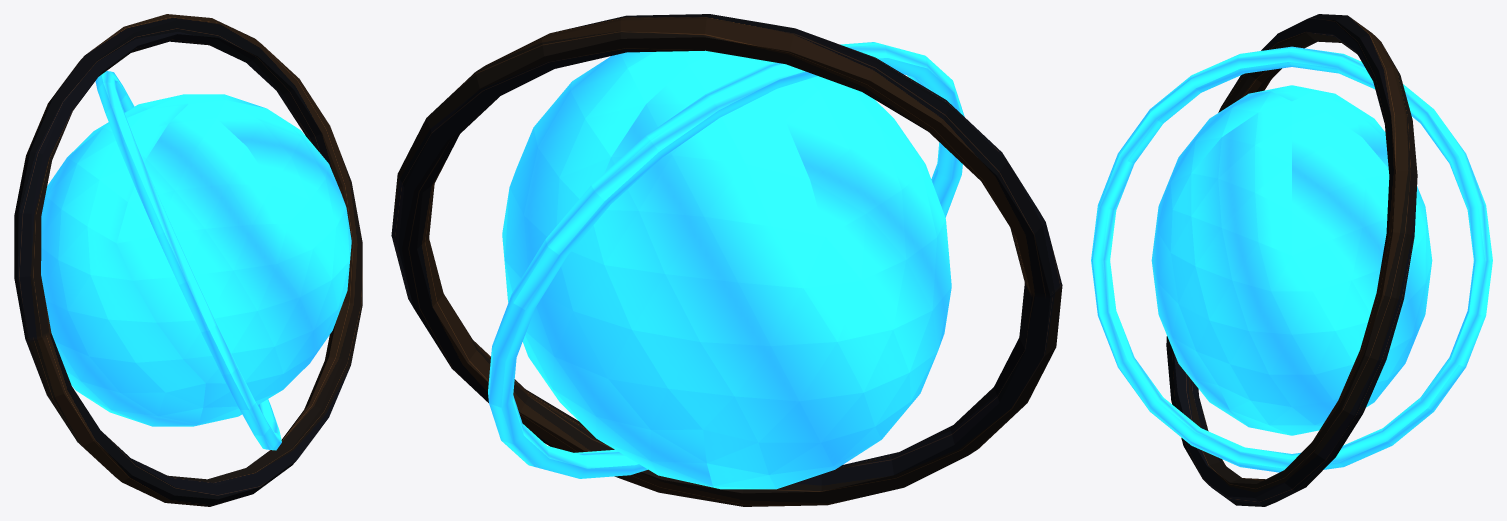
The model's file is abyss-orb.glb.
3 renders of one model, left to right at view 1: azimuth 30°, elevation 25°; view 2: azimuth 150°, elevation 25°; view 3: azimuth 270°, elevation 25°, orthographic. The views are drawn at different scales.
Visible parts, largest first — view 1: orb-shell, orb-ring-a, orb-ring-b; view 2: orb-shell, orb-ring-a, orb-ring-b; view 3: orb-shell, orb-ring-b, orb-ring-a.
Part boxes in pixels (bbox=[...]): orb-shell: bbox=[41, 94, 351, 426]; orb-ring-a: bbox=[14, 14, 362, 506]; orb-ring-b: bbox=[95, 71, 281, 450]; orb-shell: bbox=[502, 50, 951, 489]; orb-ring-a: bbox=[391, 14, 1062, 506]; orb-ring-b: bbox=[488, 42, 964, 478]; orb-shell: bbox=[1151, 85, 1432, 435]; orb-ring-b: bbox=[1091, 46, 1492, 472]; orb-ring-a: bbox=[1166, 14, 1417, 506].
Size of the model in its own units: 0.6691 by 0.6691 by 0.5683.
2 materials, 2 textured.
